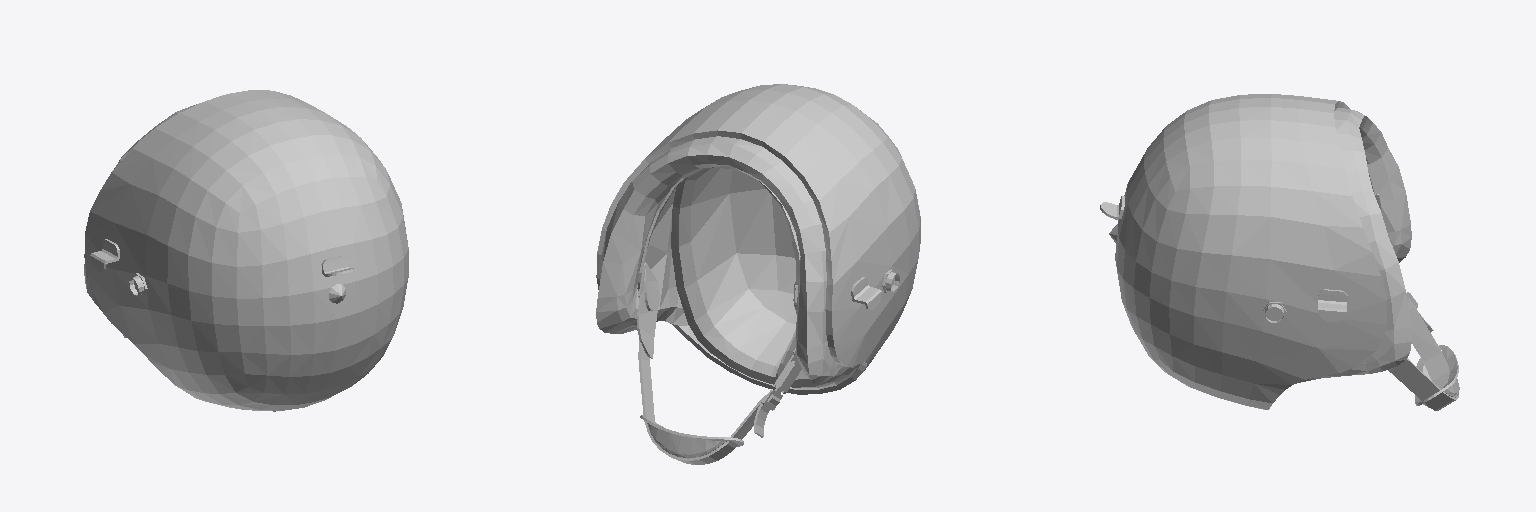
File: KillaHelmet.obj
3 views of the same model, side by side, from view 1: azimuth 30°, elevation 25°; view 2: azimuth 150°, elevation 25°; view 3: azimuth 270°, elevation 25° (orthographic).
Visible parts, largest first — view 1: 1.item_equipment_helmet_maska_1sh_killa_LOD0_diff.smd.mesh_0; view 2: 1.item_equipment_helmet_maska_1sh_killa_LOD0_diff.smd.mesh_0; view 3: 1.item_equipment_helmet_maska_1sh_killa_LOD0_diff.smd.mesh_0.
Part boxes in pixels (x1,y1,x2,y2): 1.item_equipment_helmet_maska_1sh_killa_LOD0_diff.smd.mesh_0: (84, 90, 408, 411); 1.item_equipment_helmet_maska_1sh_killa_LOD0_diff.smd.mesh_0: (596, 84, 920, 464); 1.item_equipment_helmet_maska_1sh_killa_LOD0_diff.smd.mesh_0: (1100, 94, 1459, 410).
Size of the model in its own units: 9.44 by 10.14 by 11.06.